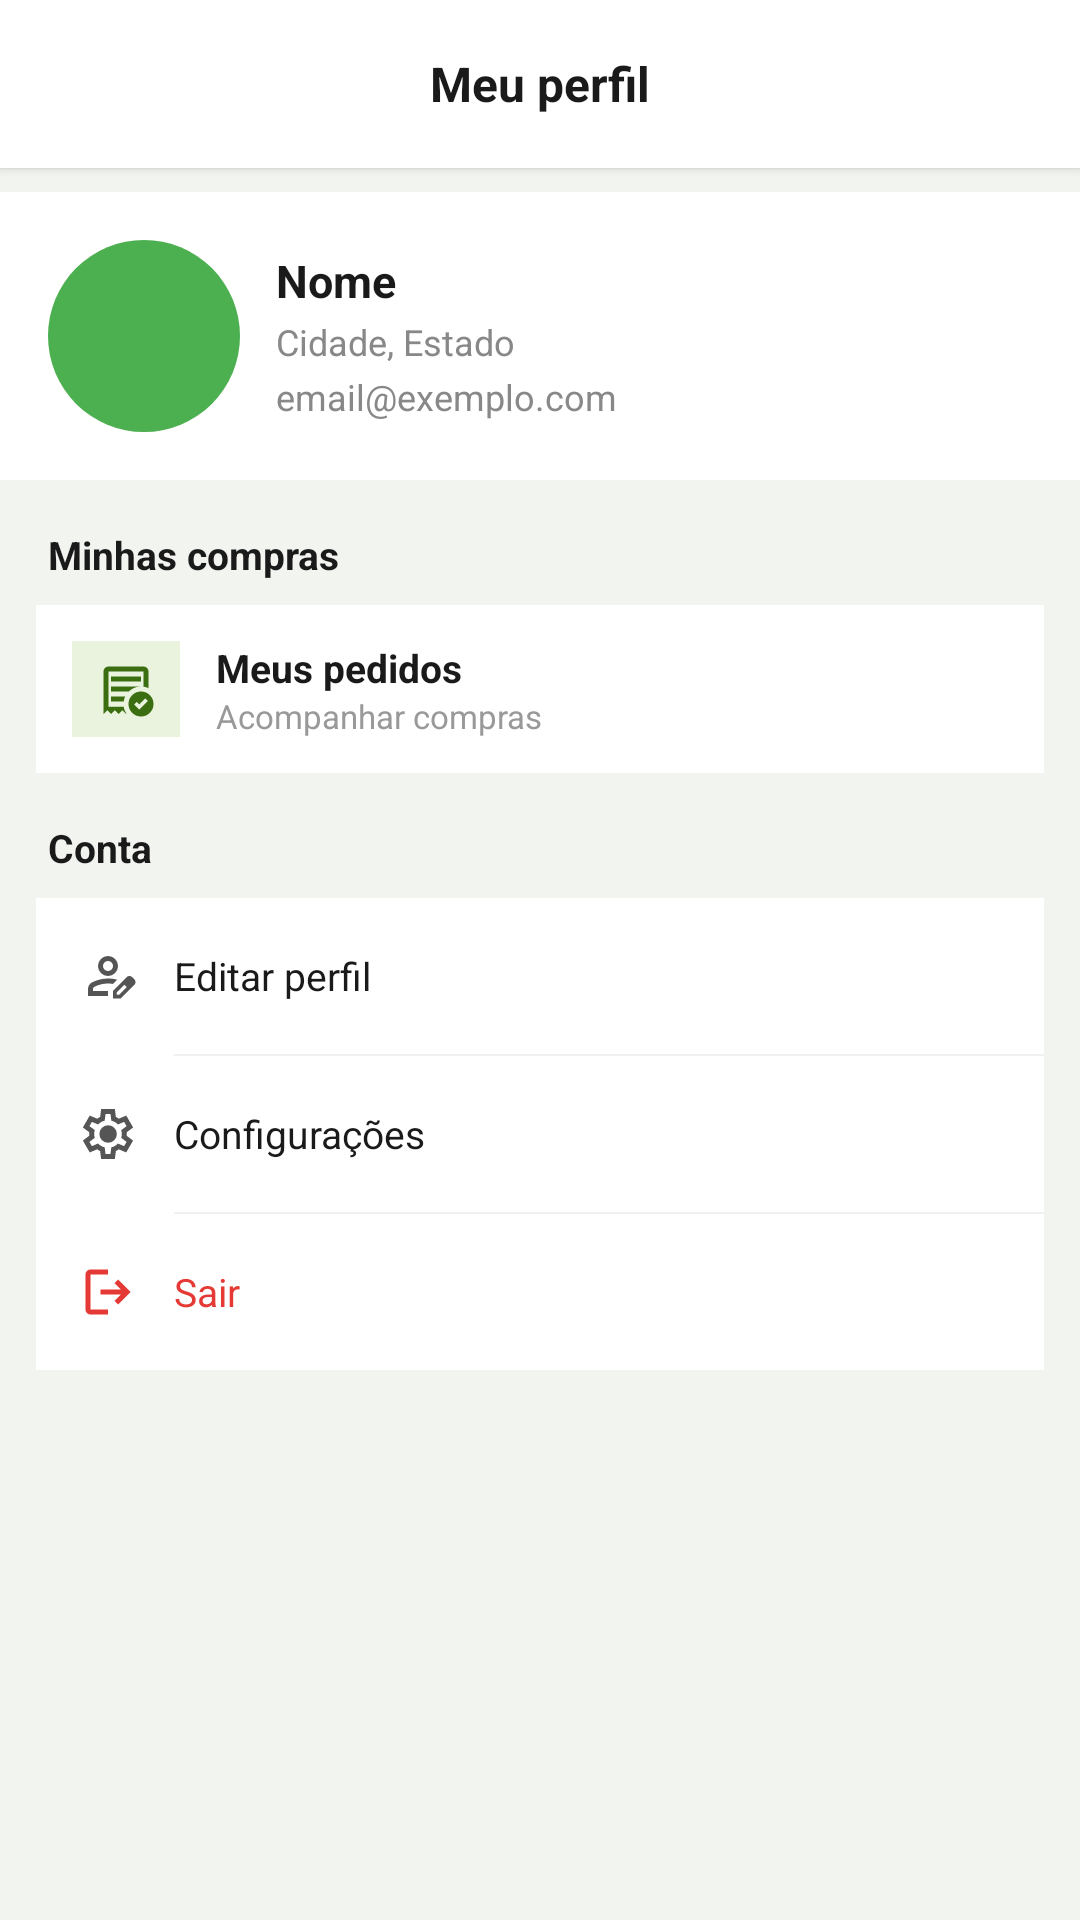

Named icons in this screenshot (1080*1920) and their centers, (x,y):
settings cinza: (108,1134)
